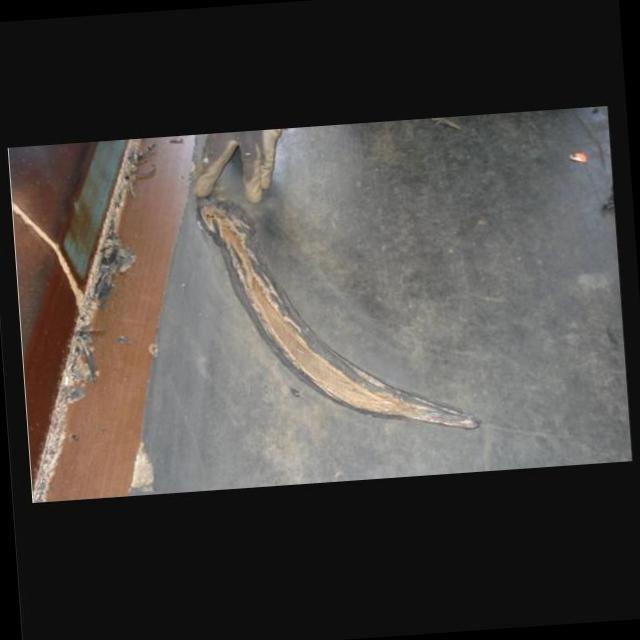Wear: (198, 195, 482, 436)
